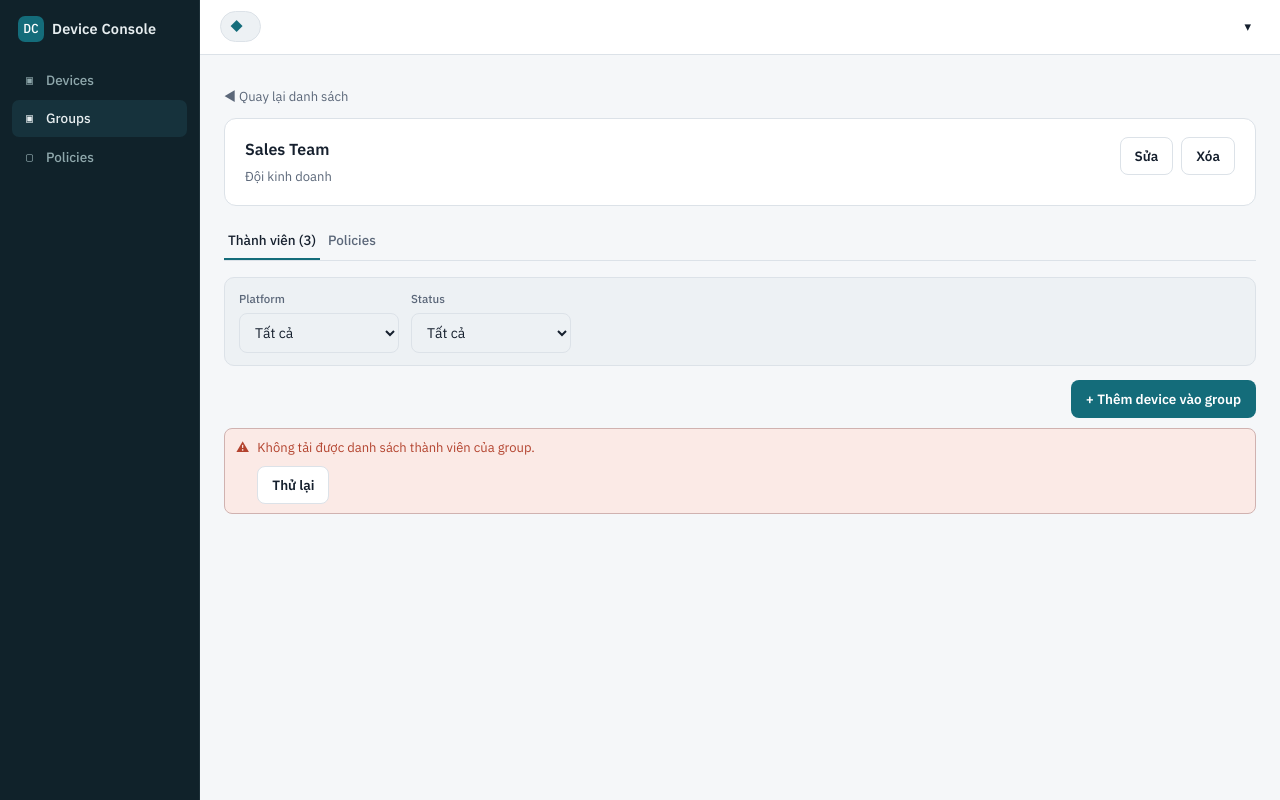
it: GroupDetailView › members tab › shows the tab error inside the tab, leaving the header readable (A28)
Check: the message with test id "error-banner" shows "Không tải được danh sách thành viên của group.", box [257,439,535,456]
Check: the text with test id "group-detail-name" reads "Sales Team", box [245,139,329,159]
Step 1. Click the button with test id "retry-button" → (293, 485), box [257,466,329,504]
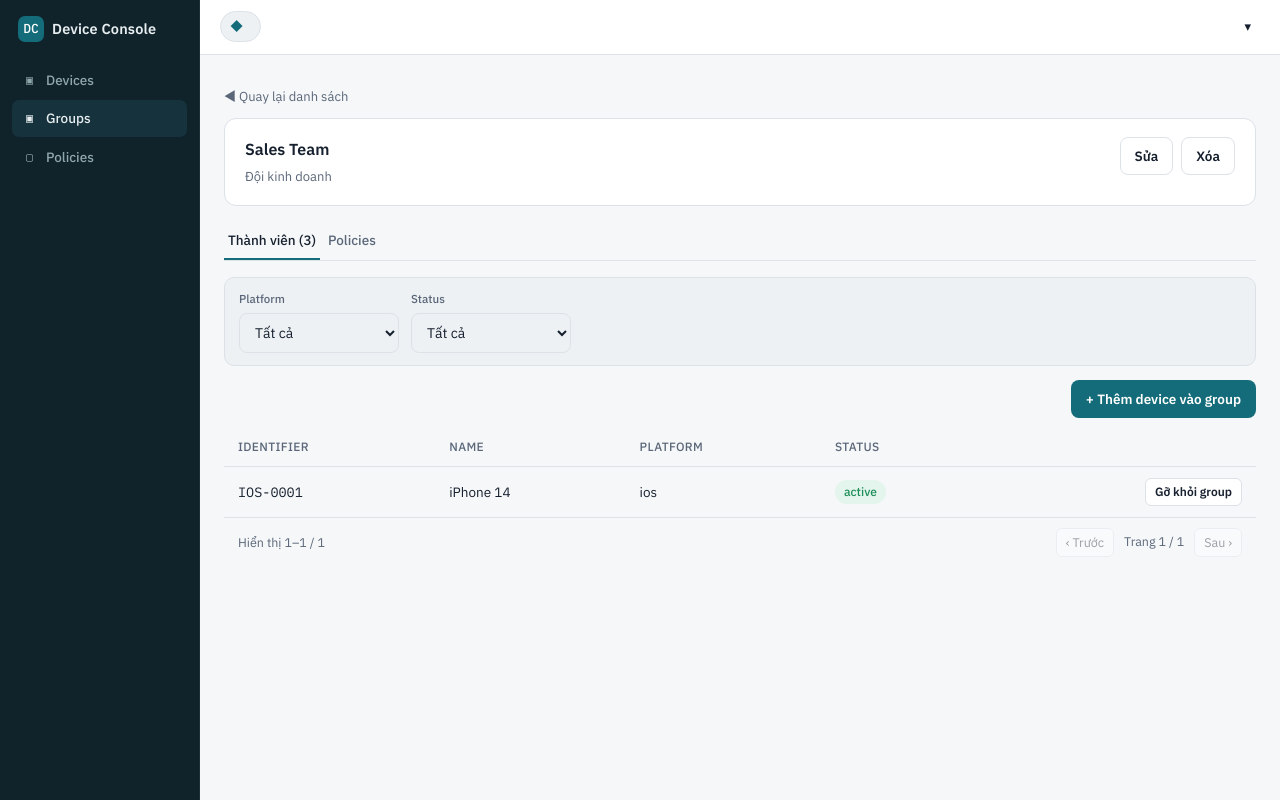
Check: the table with test id "group-members-table" is shown, box [224,428,1256,518]
